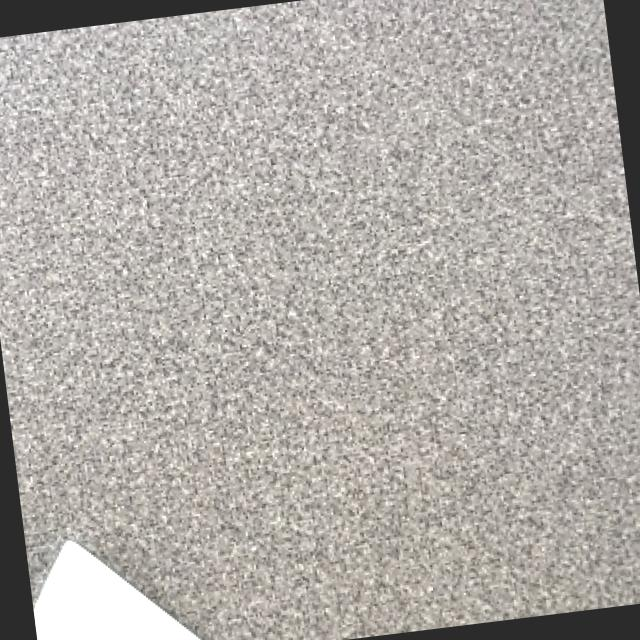healthy: (0, 0, 640, 640), (35, 538, 200, 640)
